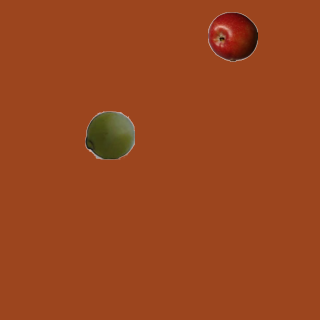Apple Braeburn: (207, 11, 257, 61)
Grape White 4: (84, 109, 134, 159)
